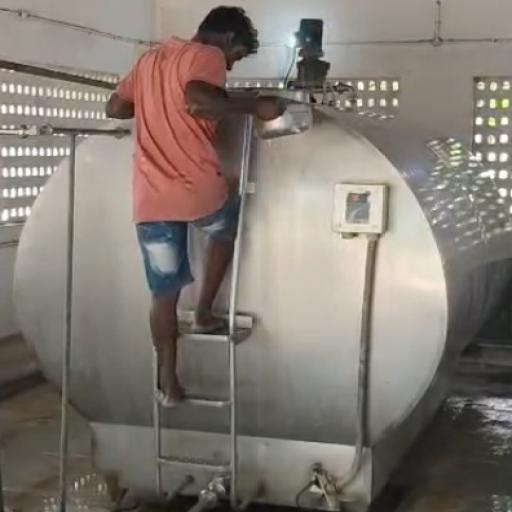silo: (13, 84, 511, 509)
vessel: (254, 102, 316, 139)
